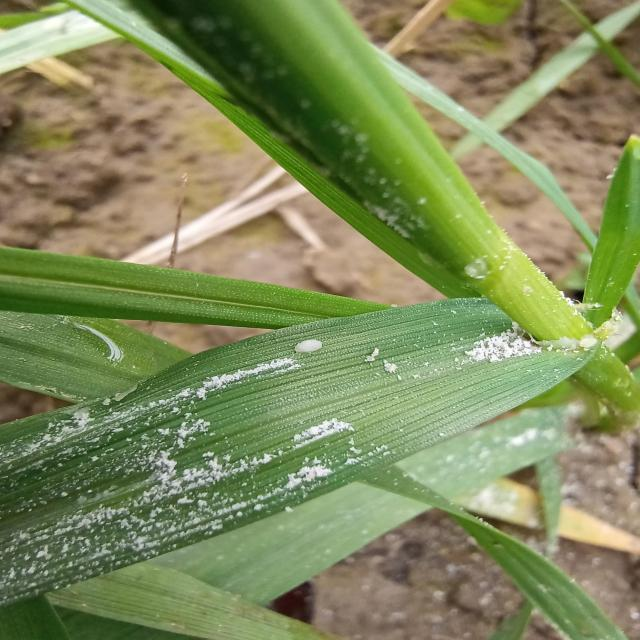Powdery_Mildew: (0, 302, 593, 612)
